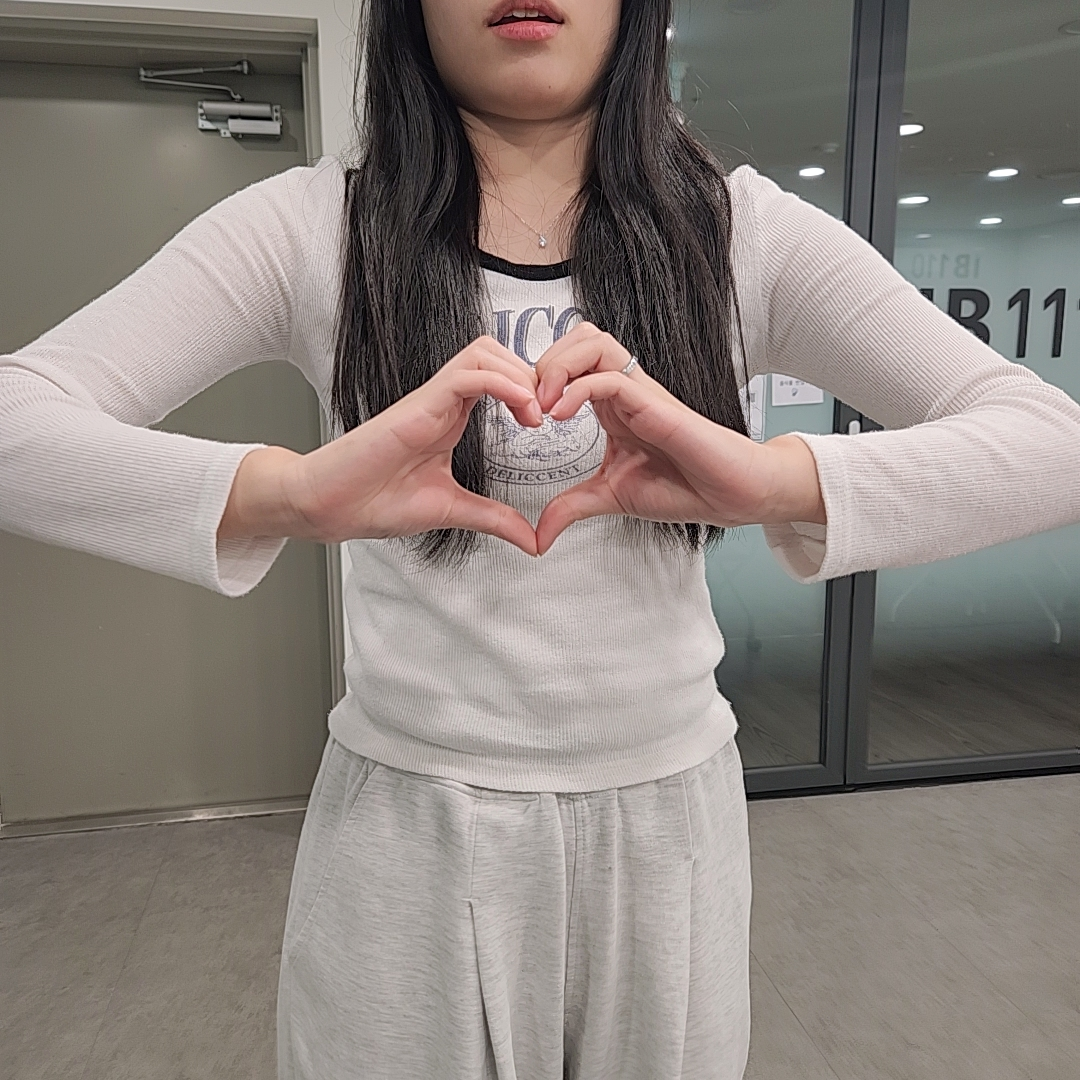heart: (308, 321, 762, 560)
